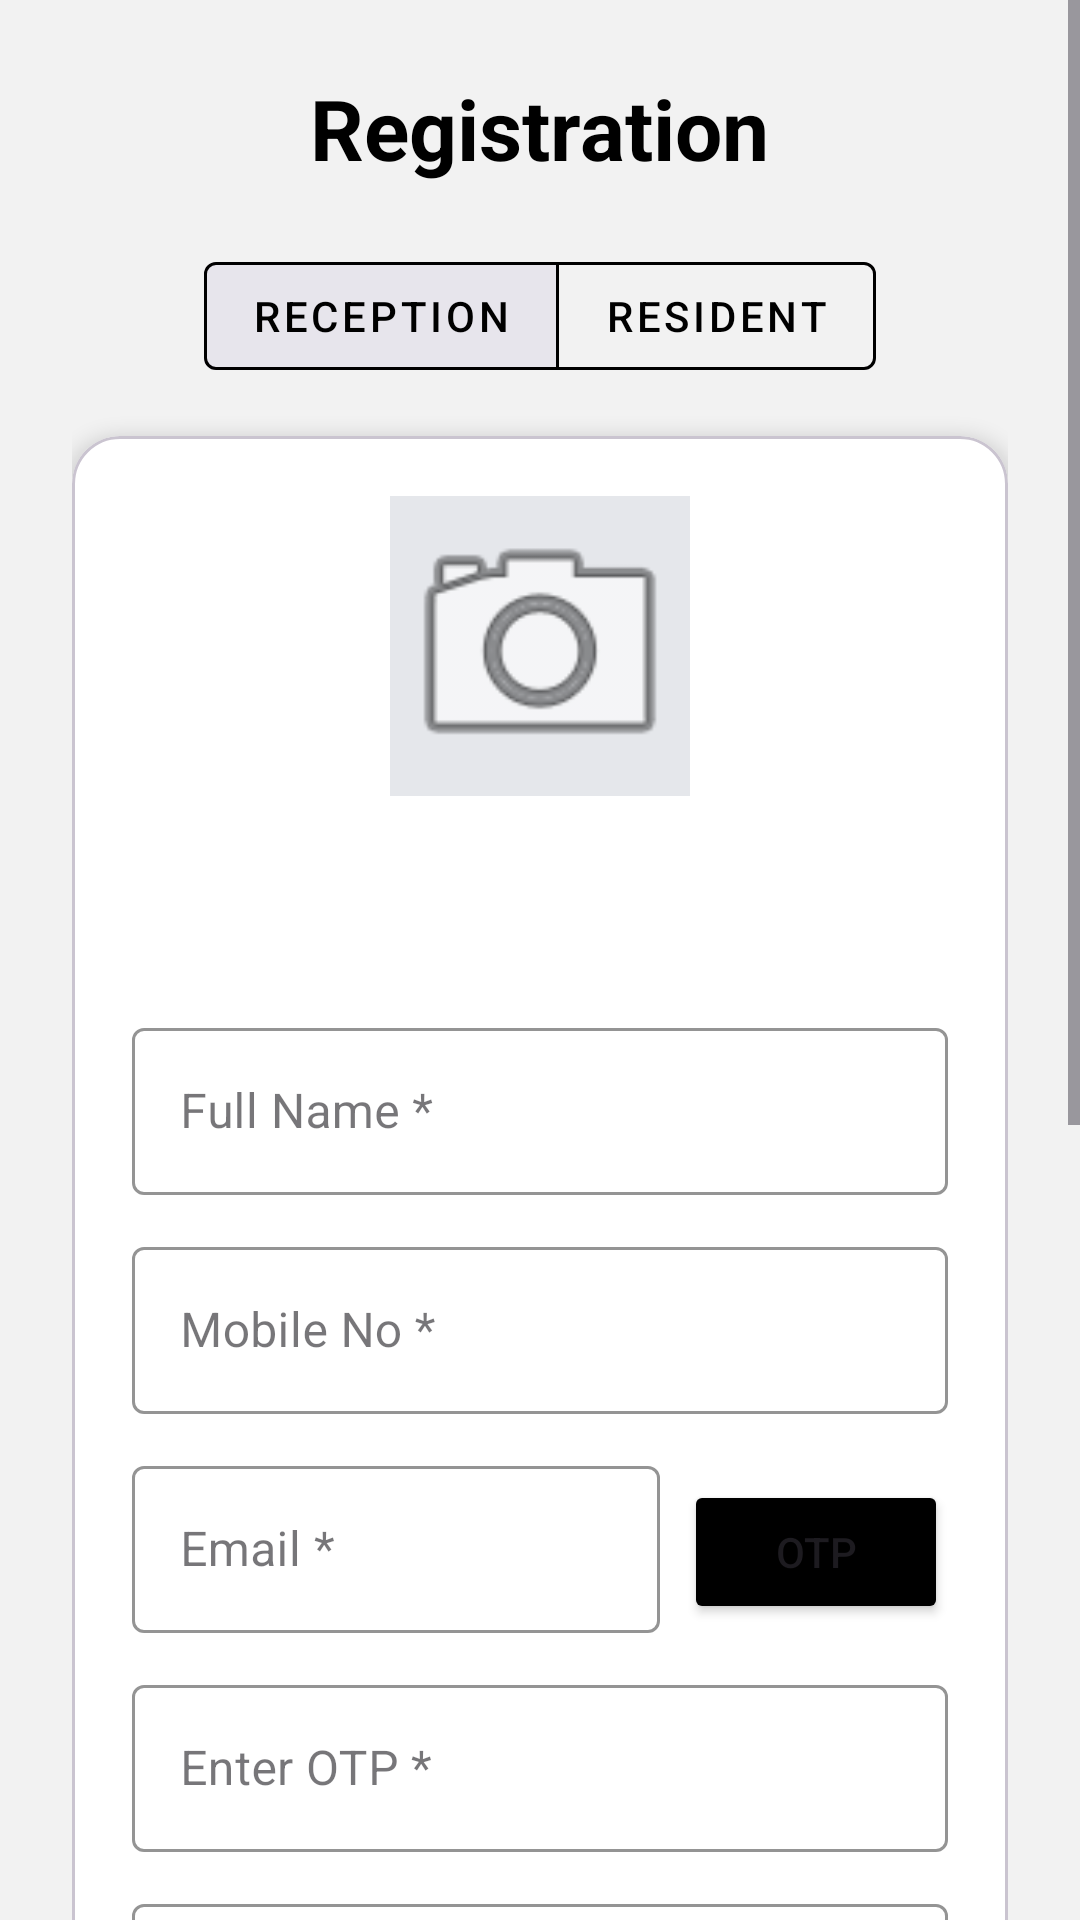

Named icons in this screenshot (1080x1920) and their bounding boxes, (x1, y1, x2, y2):
camera: (390, 496, 690, 796)
